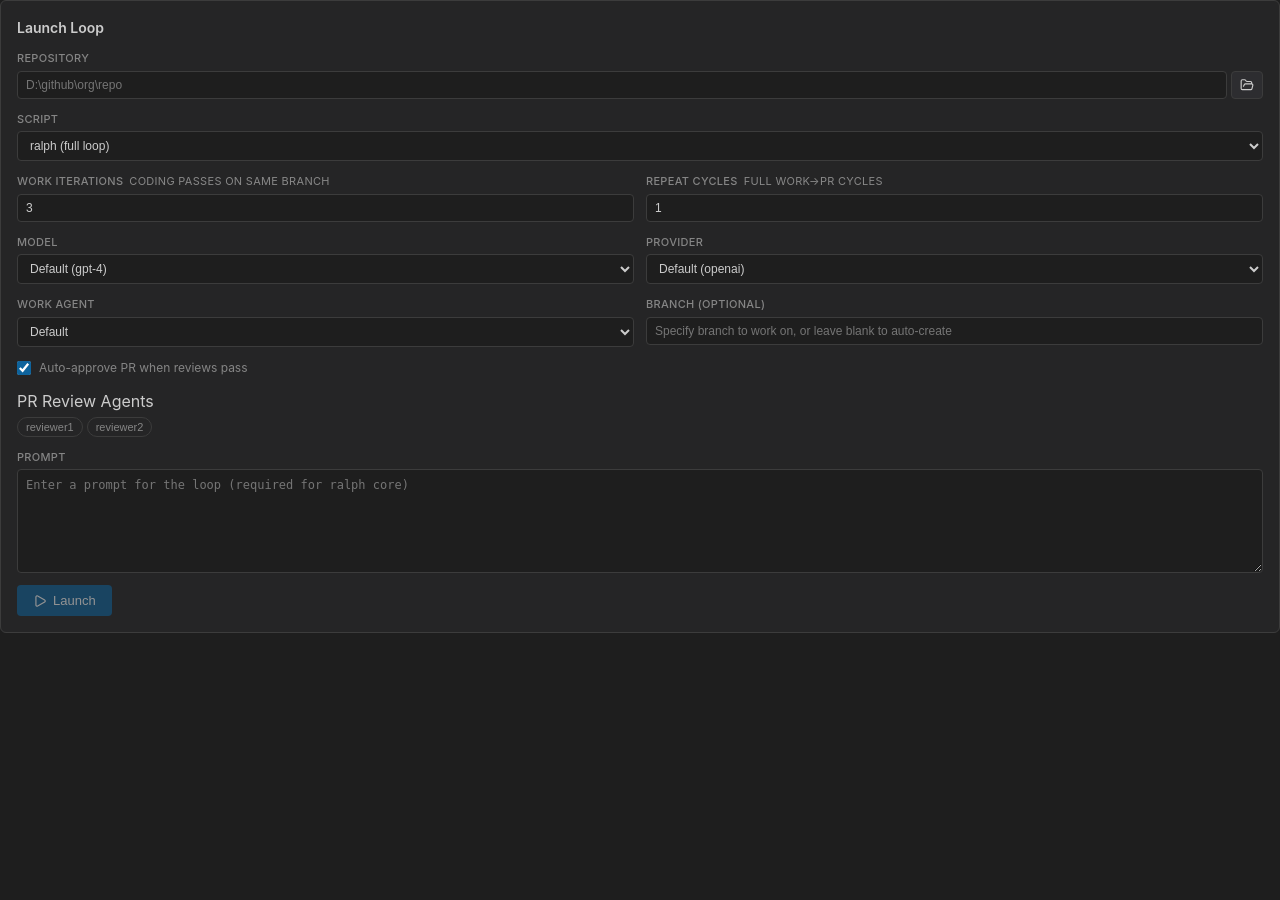
Test: RalphLaunchForm › Form Submission › disables launch button while launching
Type "/path/to/repo" into the field labelled "Repository" at point(622, 84), box [17,70,1227,98]
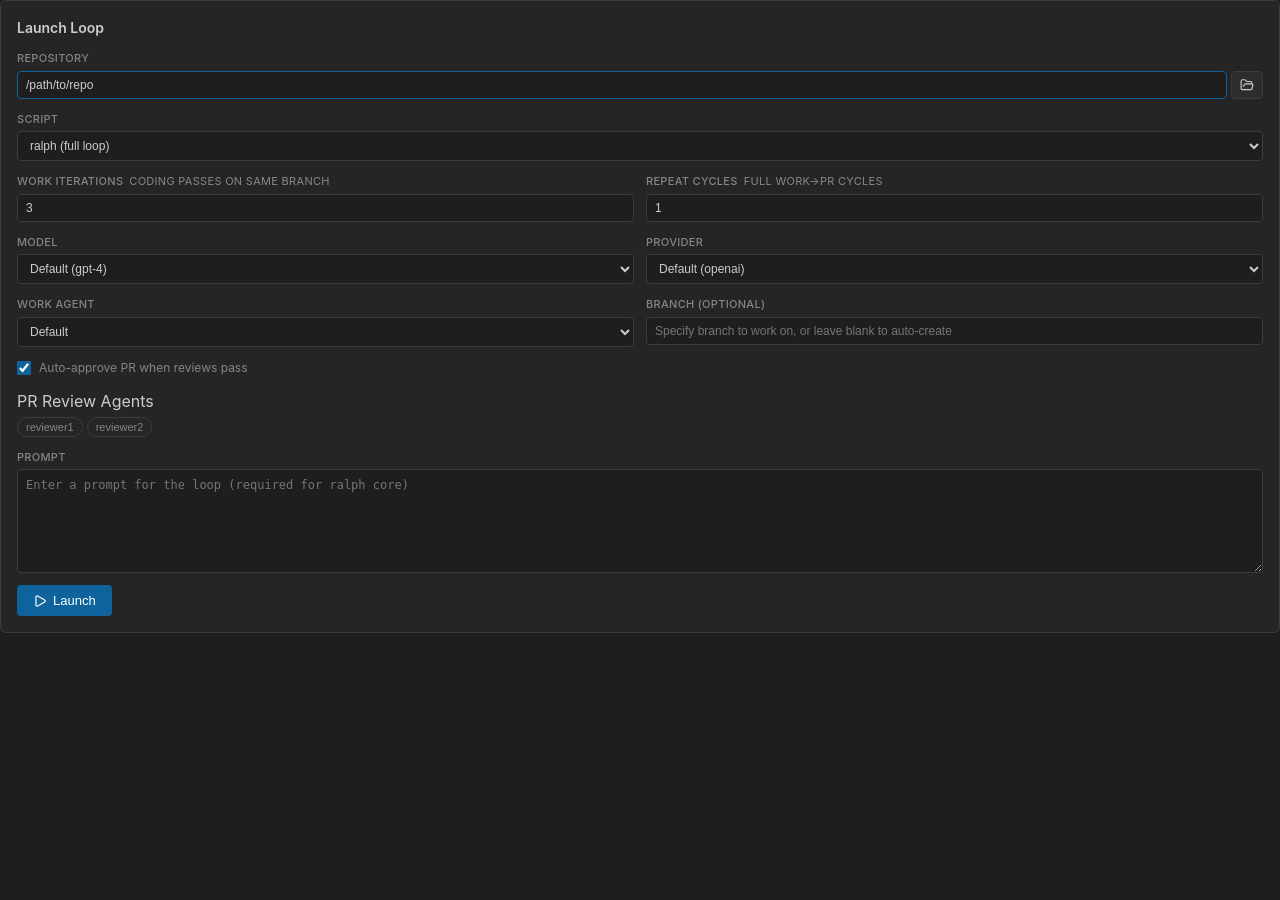
Click the button "Launch" at point(64, 600), box [17,585,112,616]
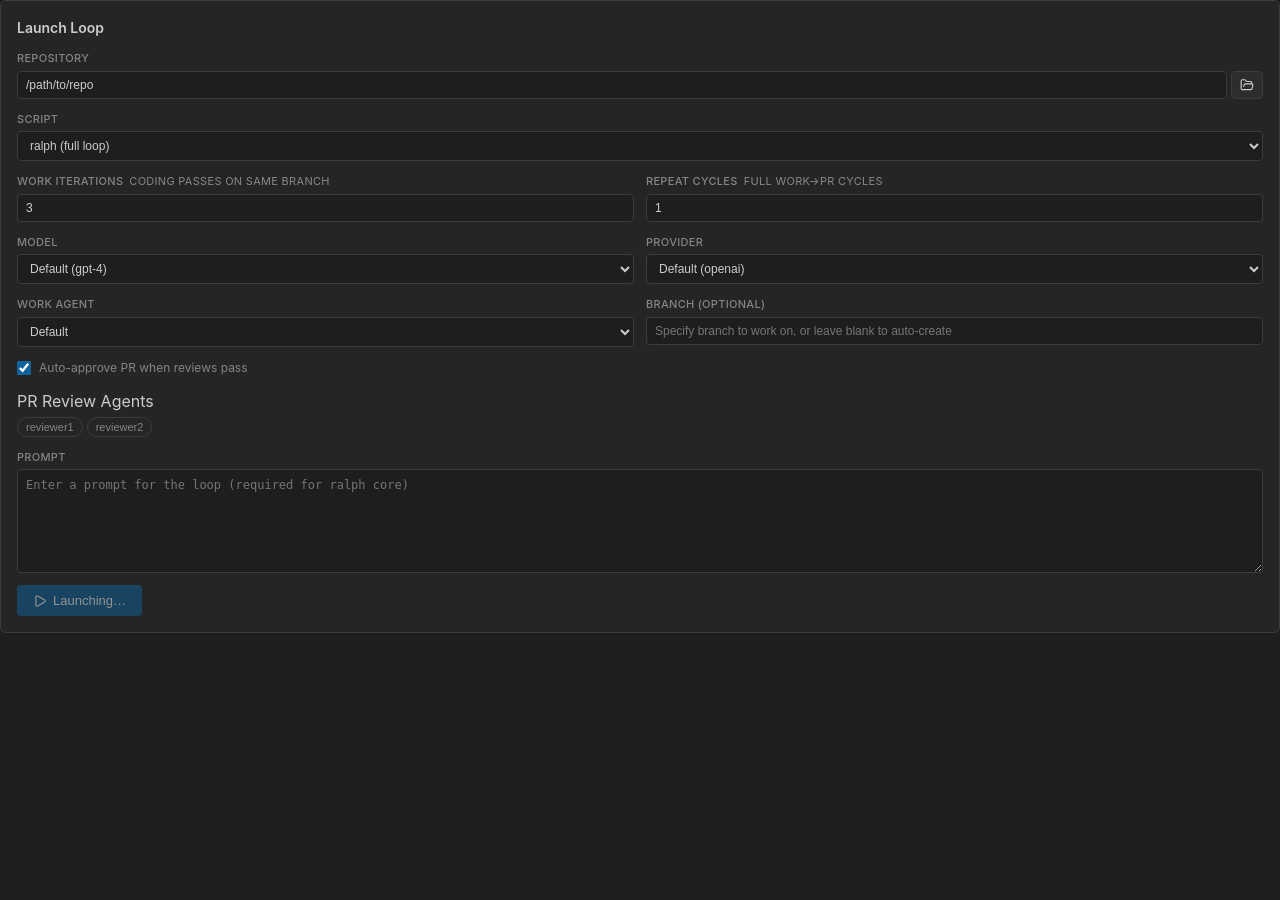
Check: the button "Launching…" is disabled, box [17,585,142,616]
